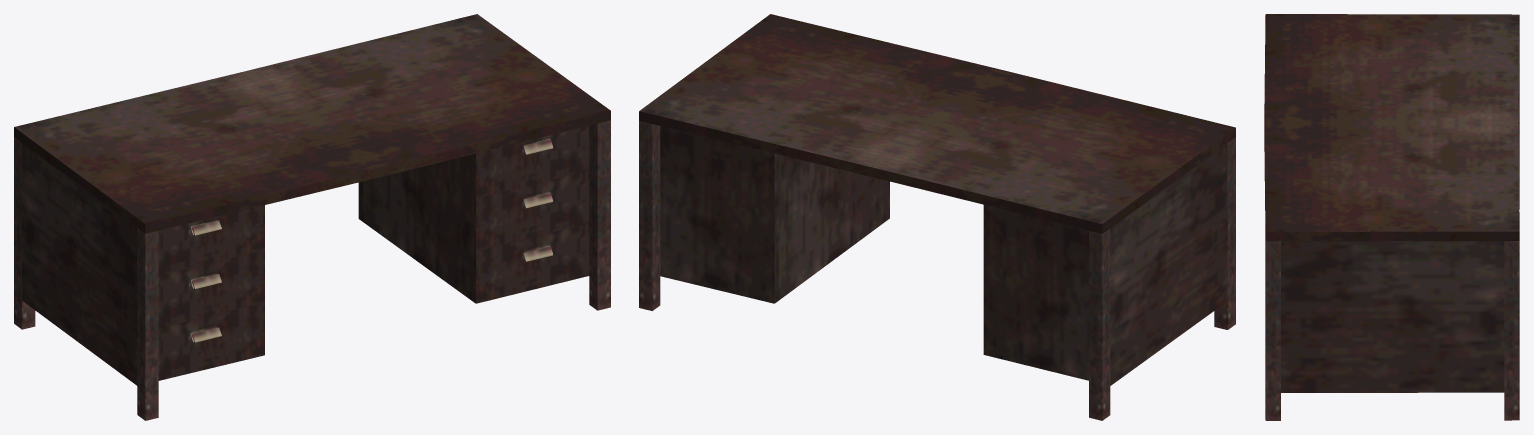
Rendered from desk2_weathered.obj.
The picture shows the model from 3 angles, left to right: view 1: azimuth 30°, elevation 25°; view 2: azimuth 150°, elevation 25°; view 3: azimuth 270°, elevation 25°; orthographic projection. The views are drawn at different scales.
Parts seen in each view (by area): view 1: desk2_weathered; view 2: desk2_weathered; view 3: desk2_weathered.
Boxes of the visible parts, box(x1,y1,x2,y2) form: desk2_weathered: box(14, 14, 610, 420); desk2_weathered: box(639, 14, 1235, 420); desk2_weathered: box(1264, 14, 1519, 420).
Size of the model in its own units: 2.21 by 0.8911 by 1.09.
